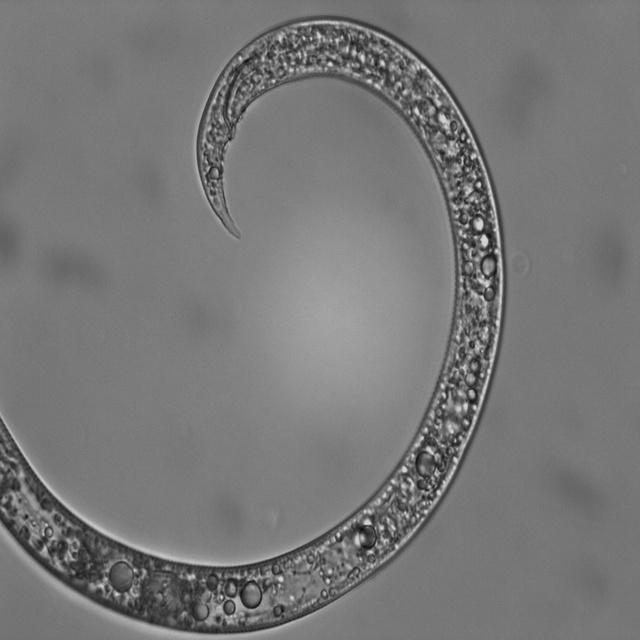Helicotylenchus: (0, 12, 514, 639)
